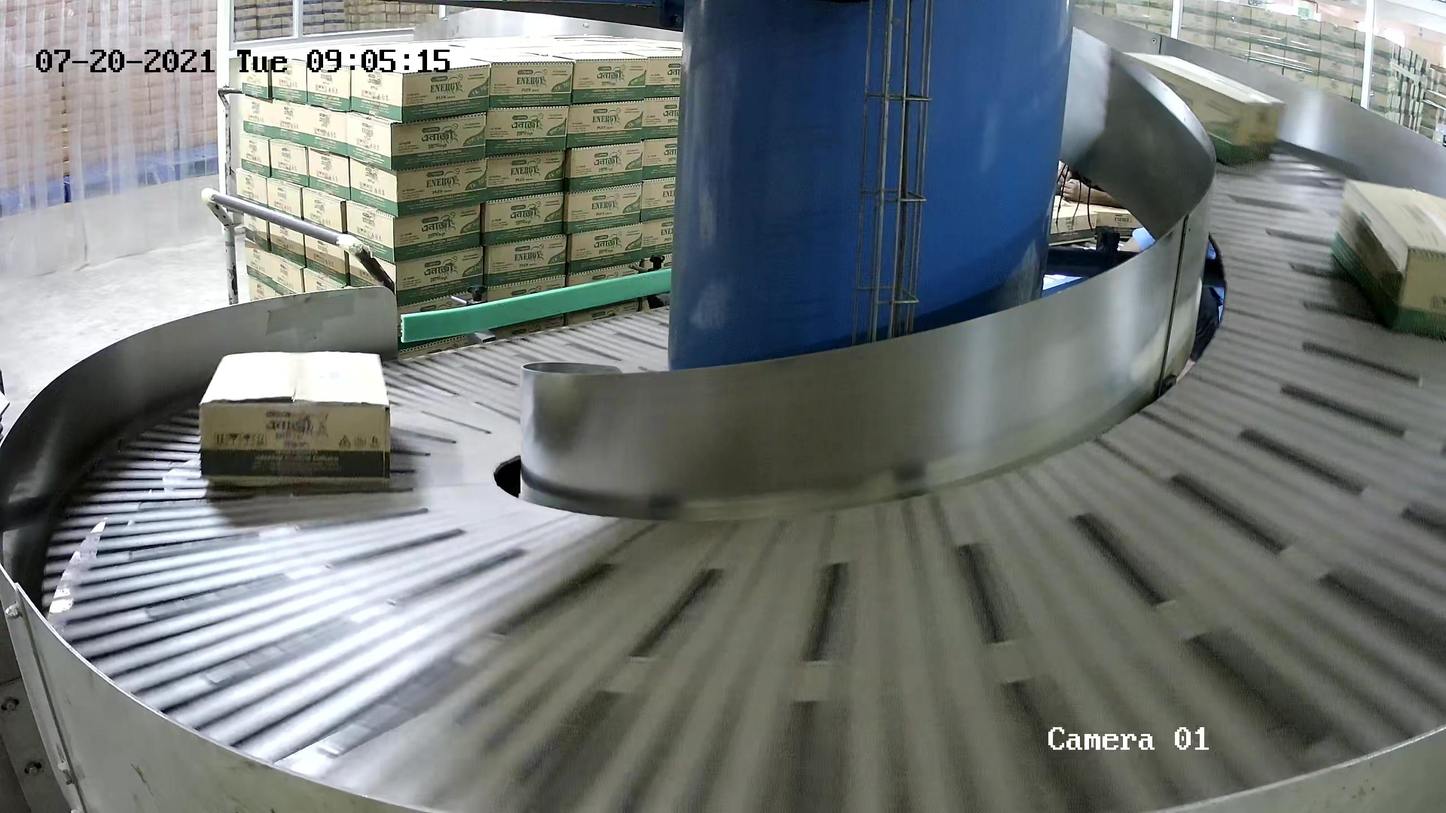Box: (196, 349, 393, 490), (1118, 50, 1286, 169), (1330, 176, 1446, 339)
